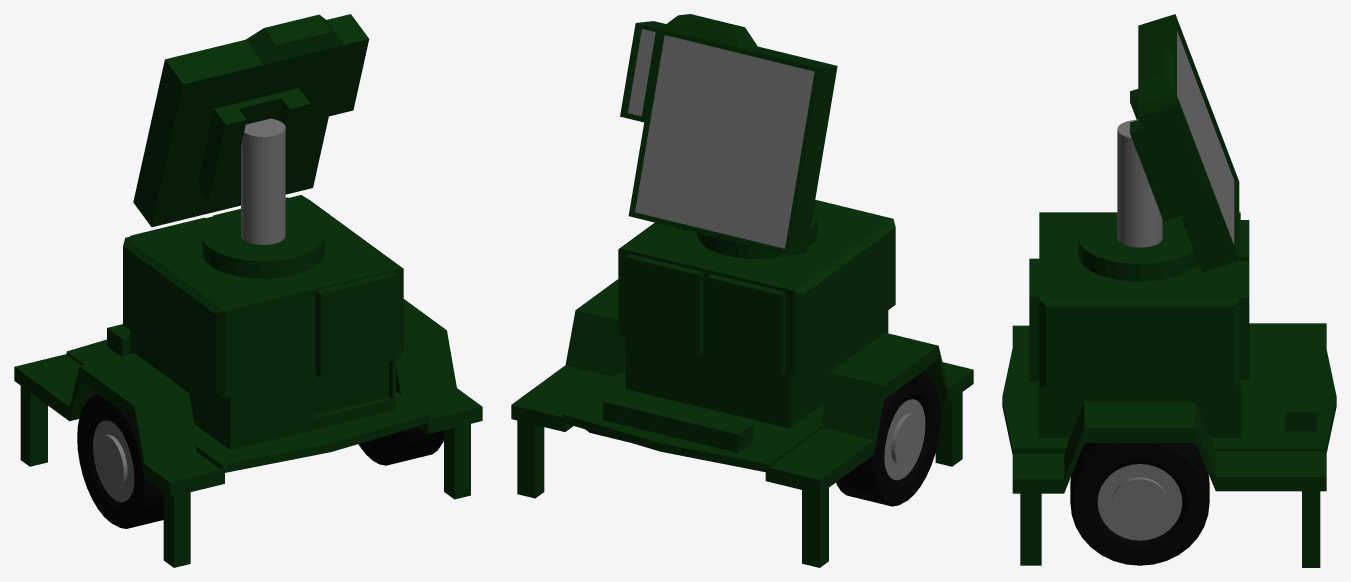
The model's file is radar.glb.
The picture shows the model from 3 angles, left to right: view 1: azimuth 30°, elevation 25°; view 2: azimuth 150°, elevation 25°; view 3: azimuth 270°, elevation 25°; orthographic projection.
Parts seen in each view (by area): view 1: Cube.002, Cube.003, Cube.006, Cylinder, Cylinder.001; view 2: Cube.002, Cube.003, Cube.006, Cylinder.001, Cylinder; view 3: Cube.002, Cube.006, Cube.003, Cylinder.001, Cylinder.
Part boxes in pixels (<box>): Cube.002: <box>66,195,430,472</box>; Cube.003: <box>133,14,369,227</box>; Cube.006: <box>14,299,482,567</box>; Cylinder: <box>202,118,324,278</box>; Cylinder.001: <box>77,394,443,528</box>; Cube.002: <box>562,200,895,472</box>; Cube.003: <box>620,14,837,254</box>; Cube.006: <box>511,279,973,567</box>; Cylinder.001: <box>585,373,940,506</box>; Cylinder: <box>696,208,817,259</box>; Cube.002: <box>1002,212,1336,454</box>; Cube.006: <box>1012,323,1326,567</box>; Cube.003: <box>1130,14,1239,272</box>; Cylinder.001: <box>1070,443,1209,565</box>; Cylinder: <box>1078,119,1198,281</box>.
Bounding box in the file's own units: 1.71 × 2.35 × 1.58.
